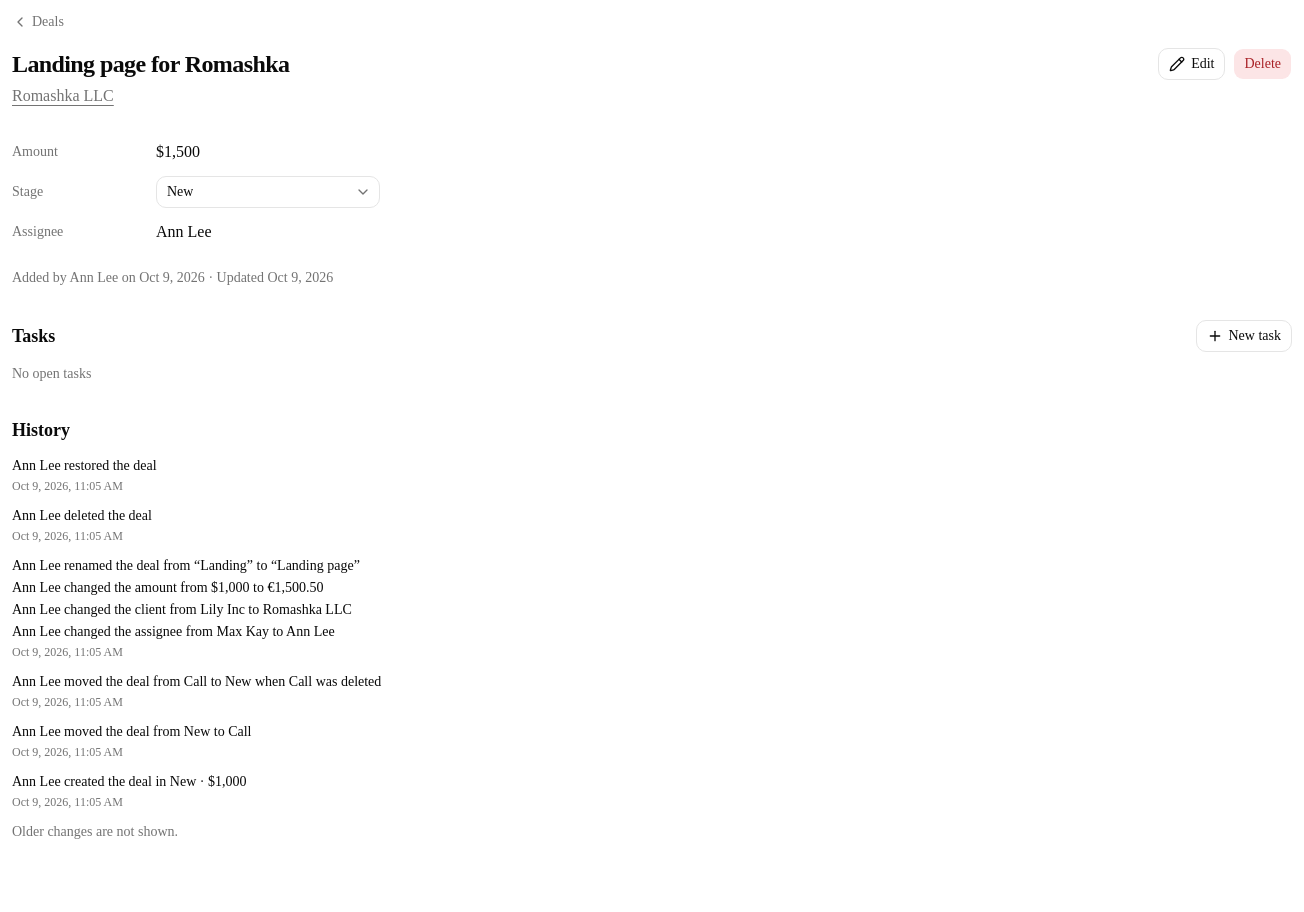
DealView › should say the page is updated when the stage change meets a deal changed elsewhere
Click the dropdown named "Stage" at (268, 192), box 156,176 -> 380,208
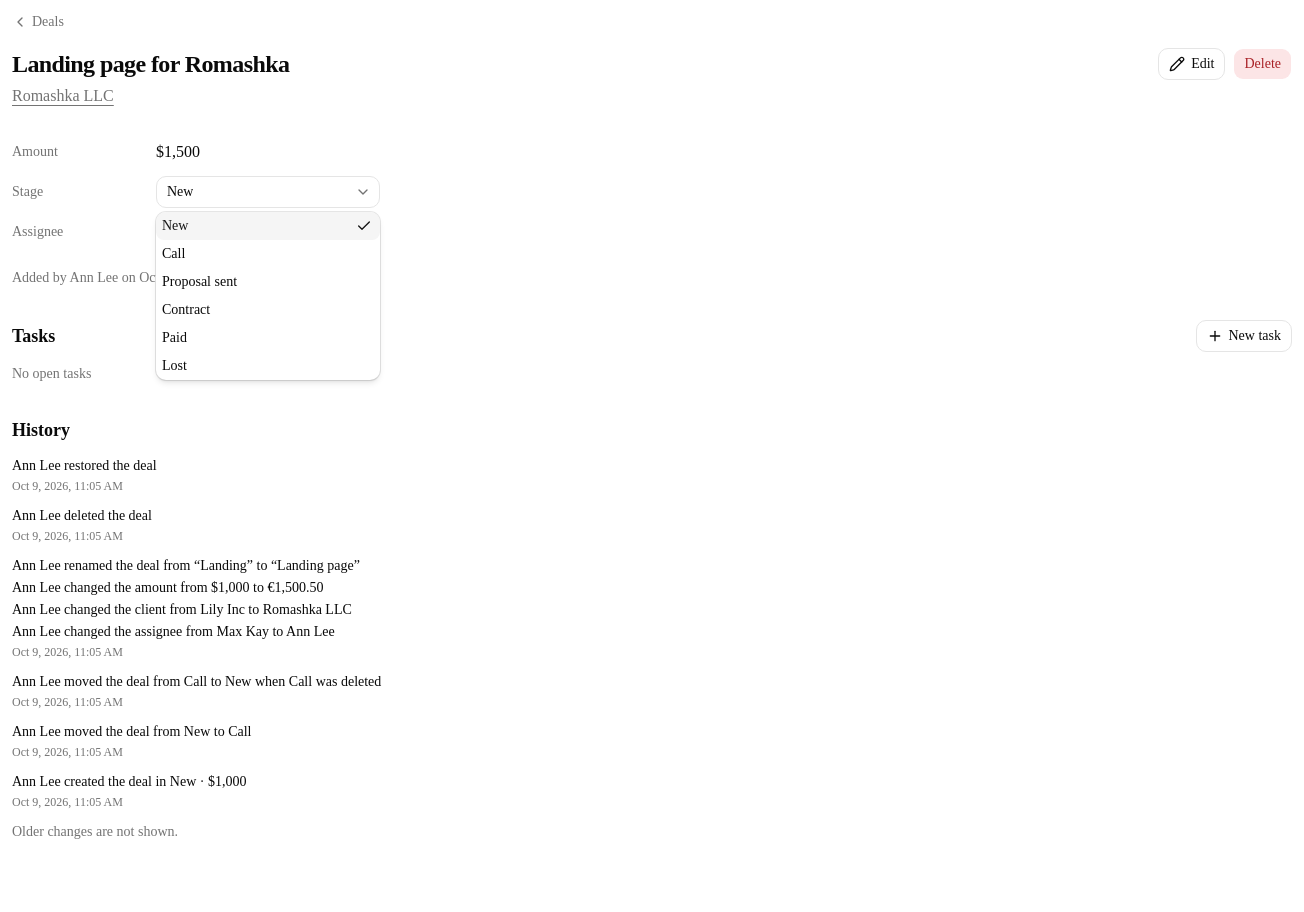
Click the option "Call" at (174, 254), box 162,246 -> 185,261
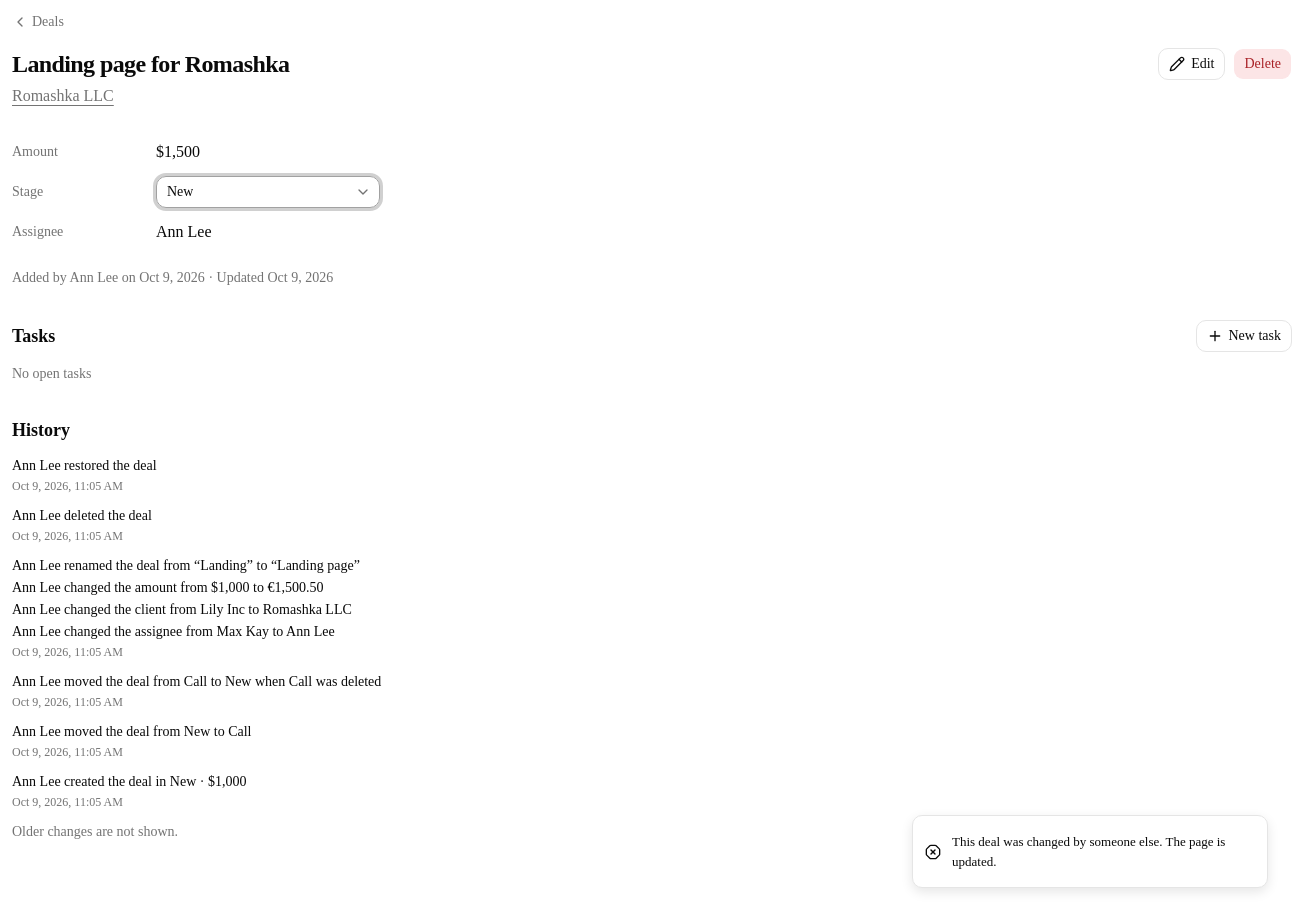
Expected: the text "This deal was changed by someone else. The page is updated." is shown, 952,832 -> 1251,871
